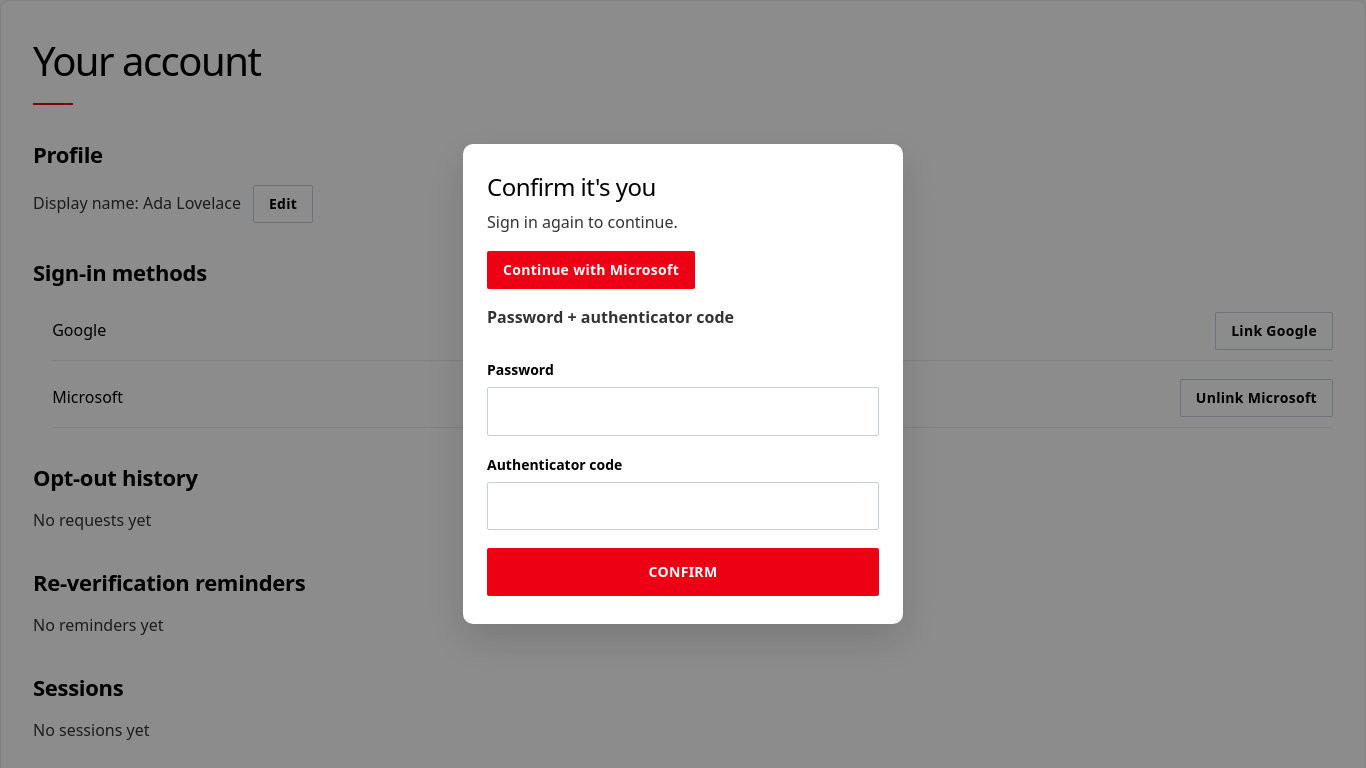
Test: step-up › posts the password and authenticator code, then clears the fields
Expected: the dialog "Confirm it's you" is shown, top-left (463, 144), bottom-right (903, 624)
Expected: the button "Continue with Microsoft" is shown, top-left (487, 251), bottom-right (695, 289)
In the password field labelled "Password": (683,411) top-left (487, 387), bottom-right (879, 436), type "secret-pass"
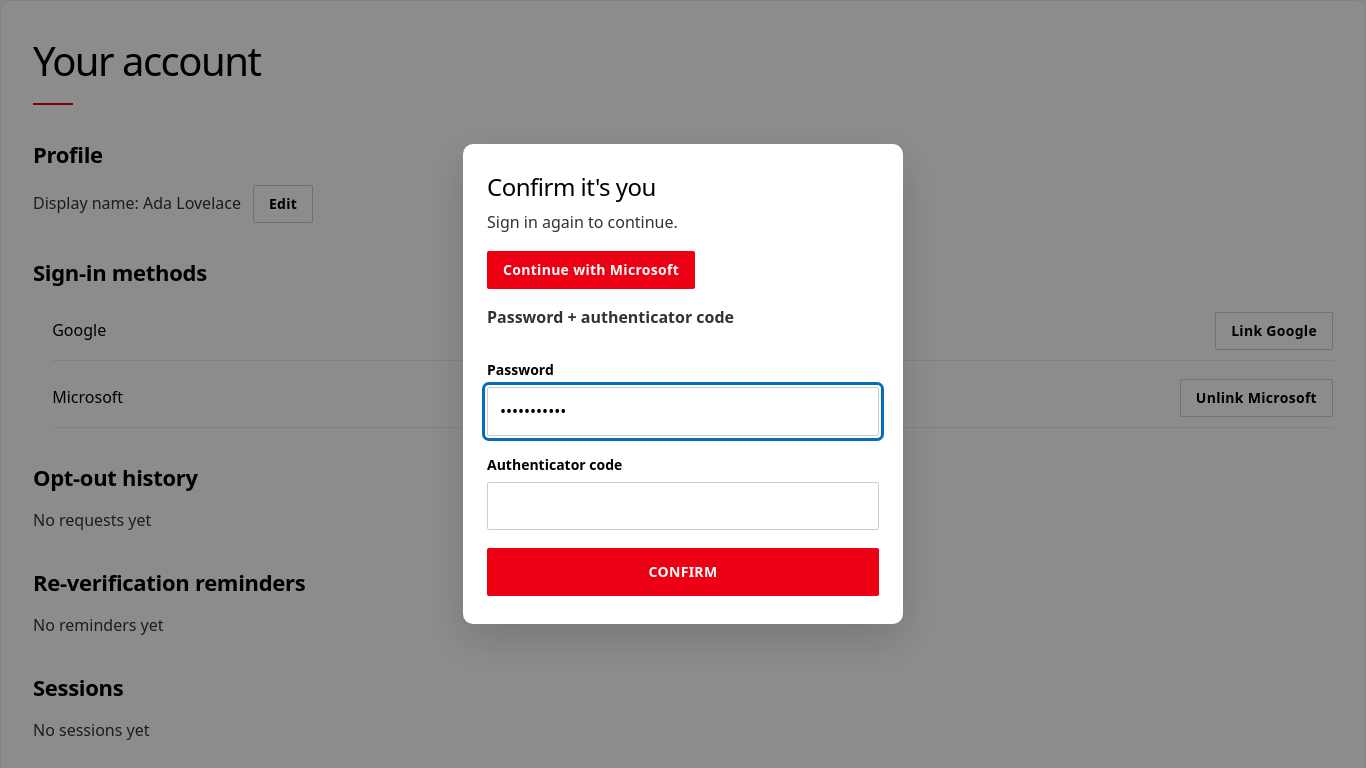
In the field labelled "Authenticator code": (683,506) top-left (487, 482), bottom-right (879, 530), type "123456"
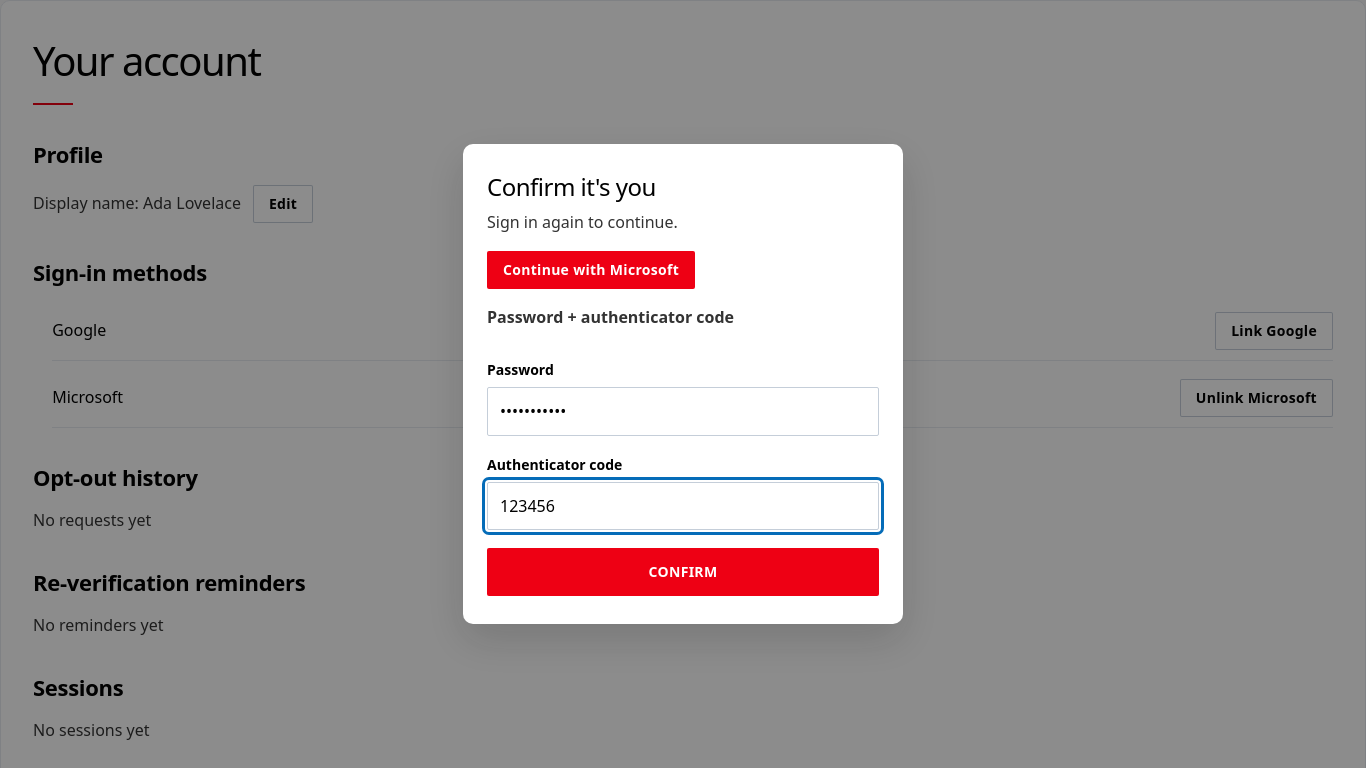
Click the button "Confirm": (683,572) top-left (487, 548), bottom-right (879, 596)
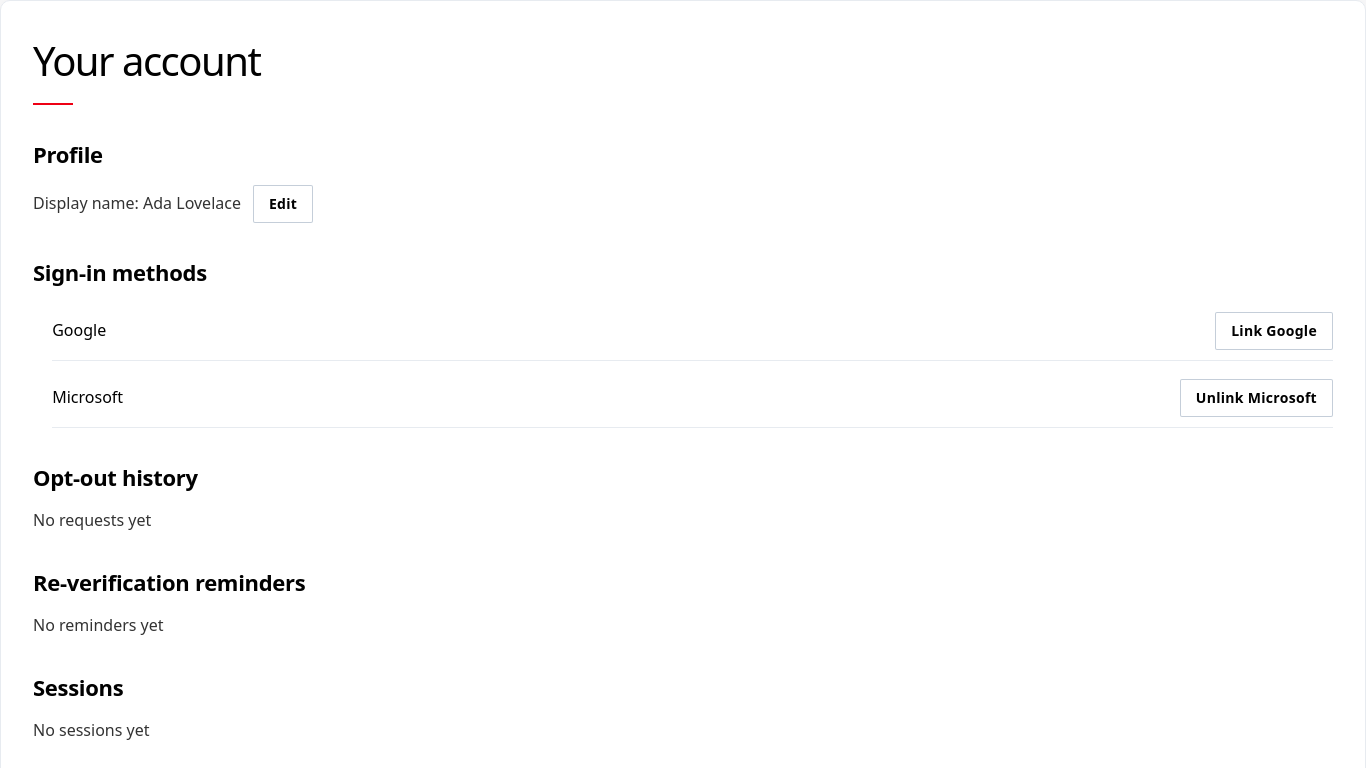
Expected: the text labelled "Password" is gone
Expected: the heading "Confirm it's you" is gone
